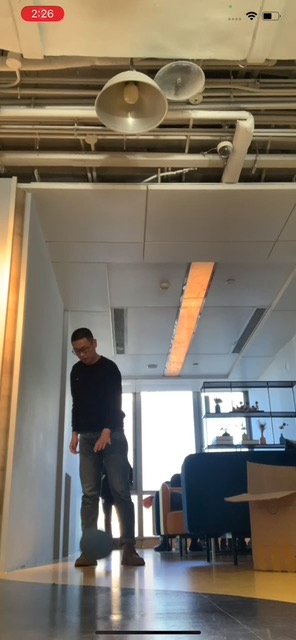ball: (79, 526, 114, 558)
